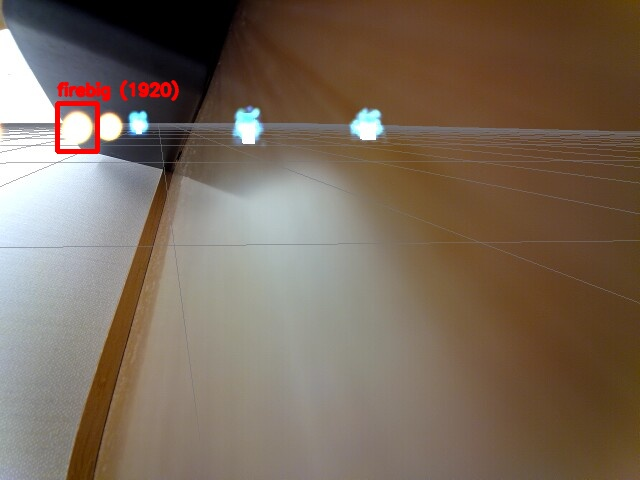firebig: (57, 103, 97, 151)
